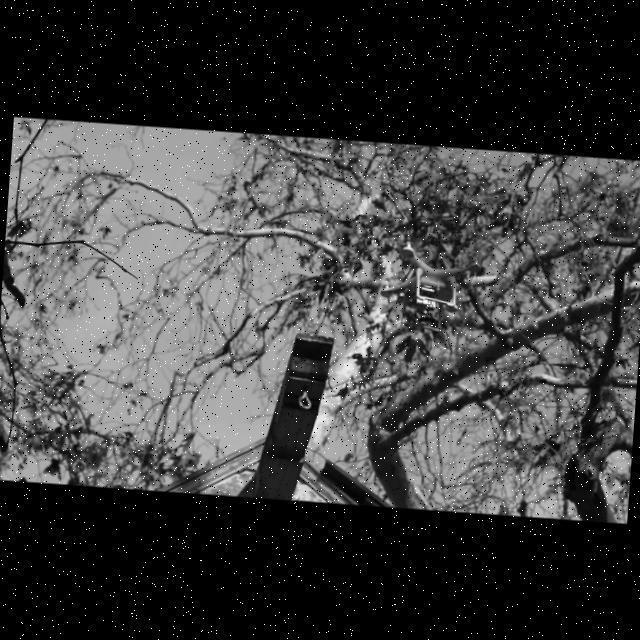Drons: (374, 221, 484, 317)
